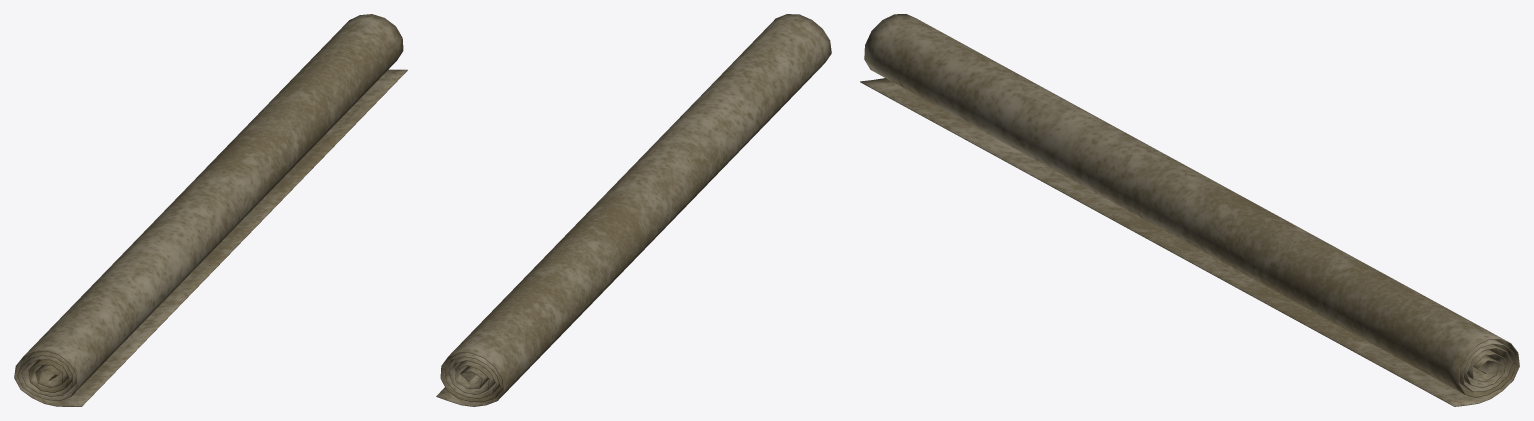
The model's file is Paper_Scroll.glb.
3 renders of one model, left to right at view 1: azimuth 30°, elevation 25°; view 2: azimuth 210°, elevation 25°; view 3: azimuth 270°, elevation 25°, orthographic. The views are drawn at different scales.
Parts seen in each view (by area): view 1: Paper.lp(complited); view 2: Paper.lp(complited); view 3: Paper.lp(complited).
Part boxes in pixels (box(x1,y1,x2,y2)): Paper.lp(complited): box(14, 14, 407, 406); Paper.lp(complited): box(436, 14, 831, 406); Paper.lp(complited): box(860, 14, 1519, 406).
Size of the model in its own units: 0.2486 by 0.0206 by 0.2003.
1 material, 1 textured.
